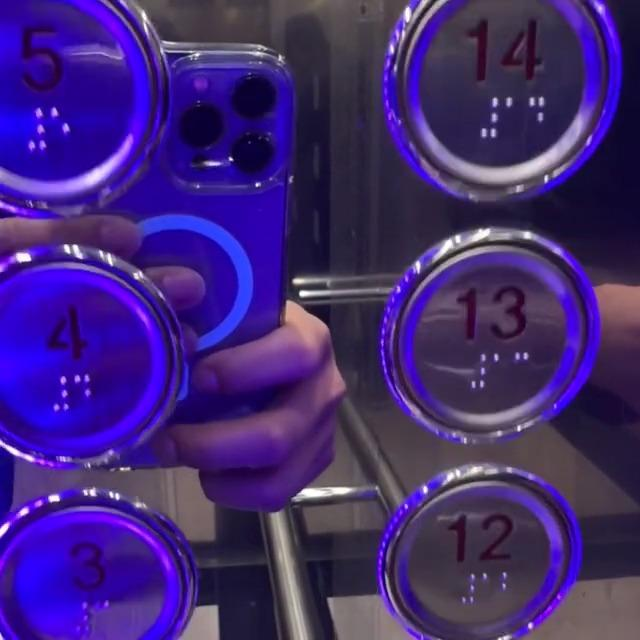button: (378, 221, 596, 441), (385, 4, 612, 187), (0, 8, 168, 200), (0, 257, 166, 444), (386, 477, 578, 629), (0, 497, 192, 634)
